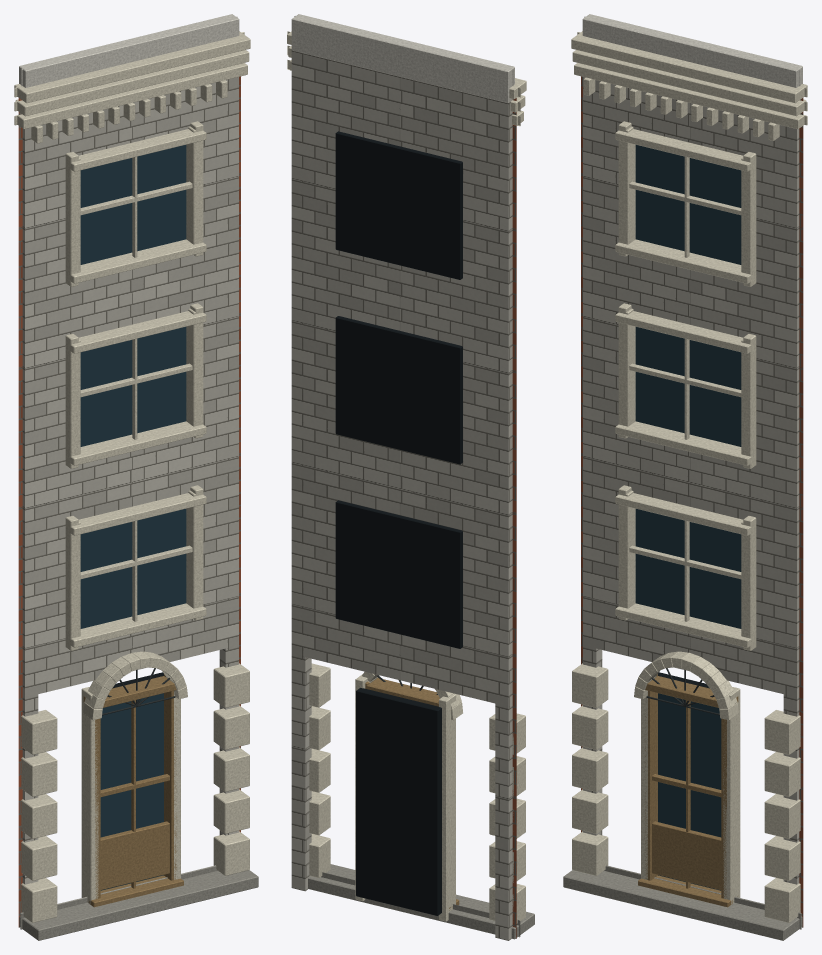
The model's file is OFFC18_lod1.glb.
The picture shows the model from 3 angles, left to right: view 1: azimuth 30°, elevation 25°; view 2: azimuth 150°, elevation 25°; view 3: azimuth 330°, elevation 25°; orthographic projection.
Visible parts, largest first — view 1: OFFC18_FRONT_LOD1; view 2: OFFC18_FRONT_LOD1; view 3: OFFC18_FRONT_LOD1.
Boxes of the visible parts, bbox=[...] form: OFFC18_FRONT_LOD1: bbox=[14, 14, 258, 940]; OFFC18_FRONT_LOD1: bbox=[287, 14, 534, 940]; OFFC18_FRONT_LOD1: bbox=[563, 14, 807, 940].
Bounding box in the file's own units: 3.44 × 12.26 × 0.68.
10 materials, 8 textured.
